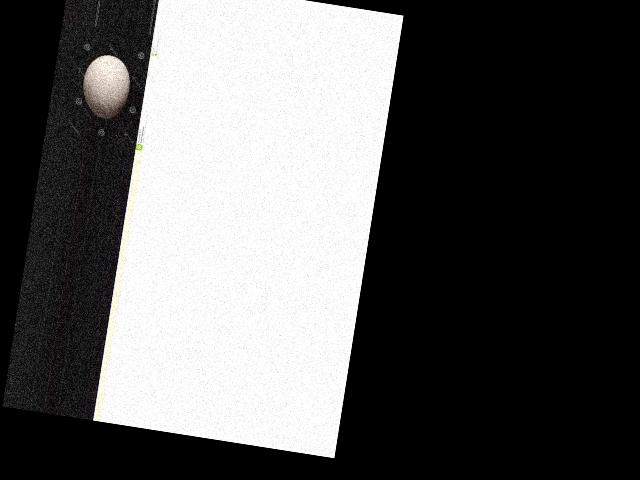egg: (78, 51, 134, 121)
